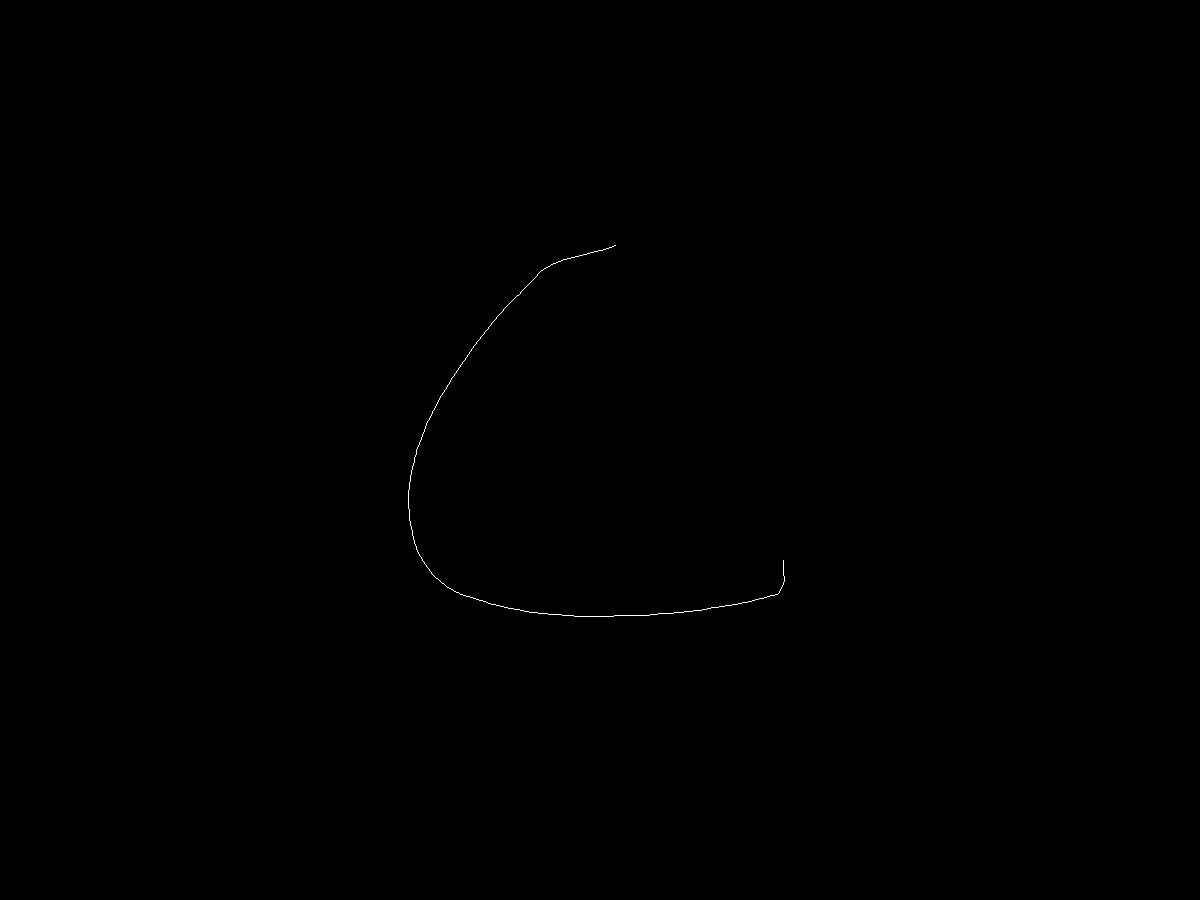dian1: (603, 241, 620, 261)
dian2: (773, 552, 802, 573)
